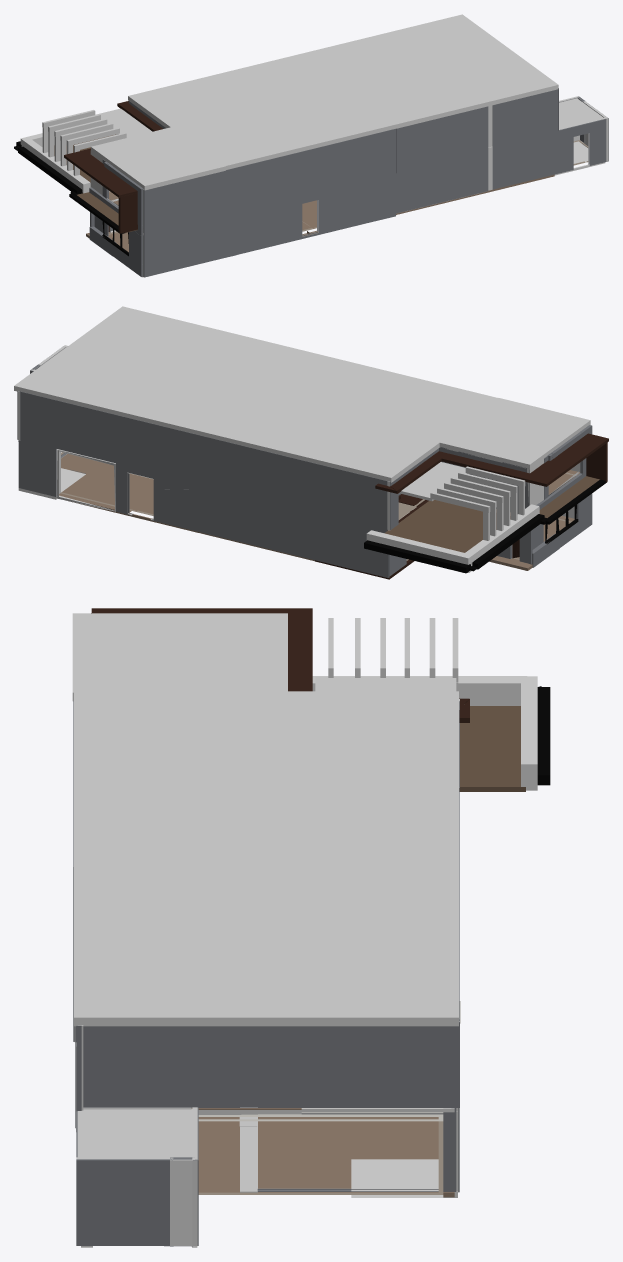
Rendered from modern-house.zfix-v3.lod1.glb.
3 views of the same model, one above another, from view 1: azimuth 30°, elevation 25°; view 2: azimuth 150°, elevation 25°; view 3: azimuth 270°, elevation 25° (orthographic). The views are drawn at different scales.
Visible parts, largest first — view 1: Object_2; view 2: Object_2; view 3: Object_2.
Part boxes in pixels (x1,y1,x2,y2): Object_2: [14, 14, 608, 277]; Object_2: [14, 306, 608, 579]; Object_2: [72, 608, 550, 1247].
Size of the model in its own units: 35.73 by 6.46 by 15.19.
